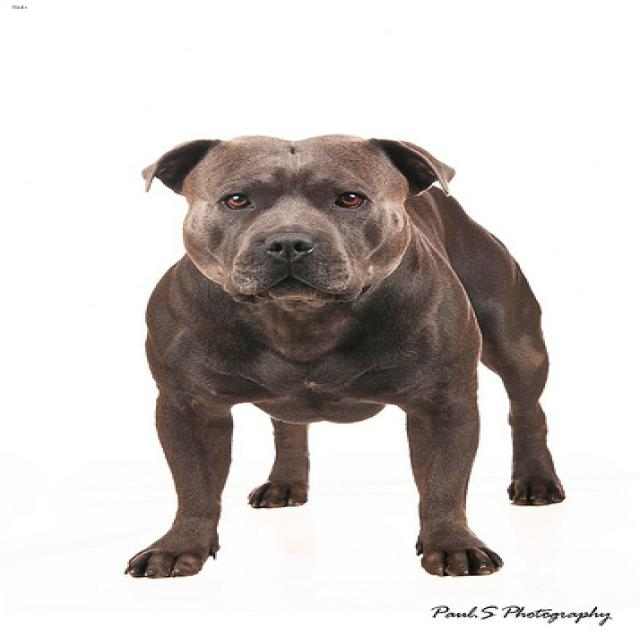dog-staffordshire_bull_terrier: (113, 131, 579, 584)
